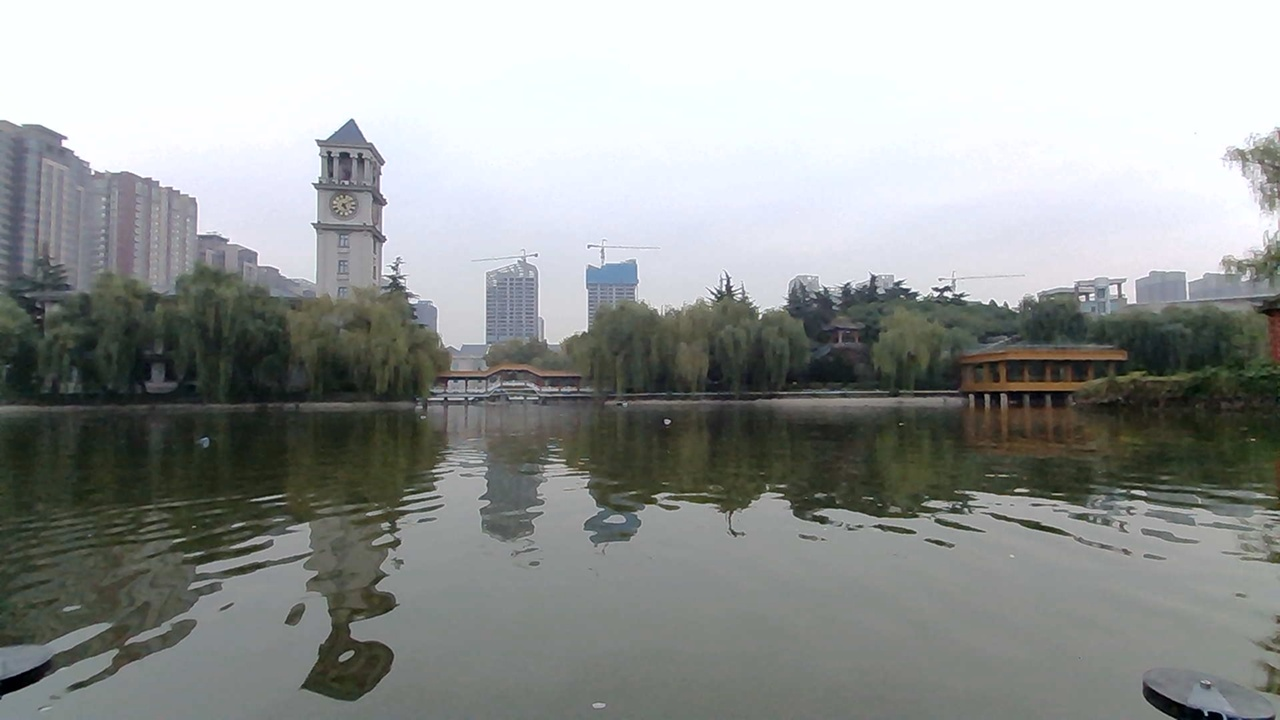bottle: (191, 431, 225, 453), (652, 408, 688, 427)
